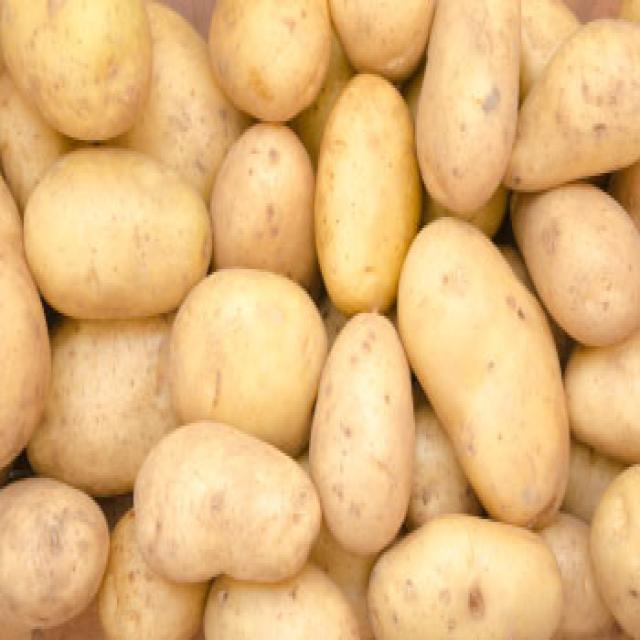potato: (397, 217, 570, 522), (20, 142, 214, 320), (131, 423, 323, 580), (162, 261, 326, 441), (316, 72, 420, 316), (312, 307, 414, 549), (368, 516, 564, 640), (420, 0, 522, 212)
